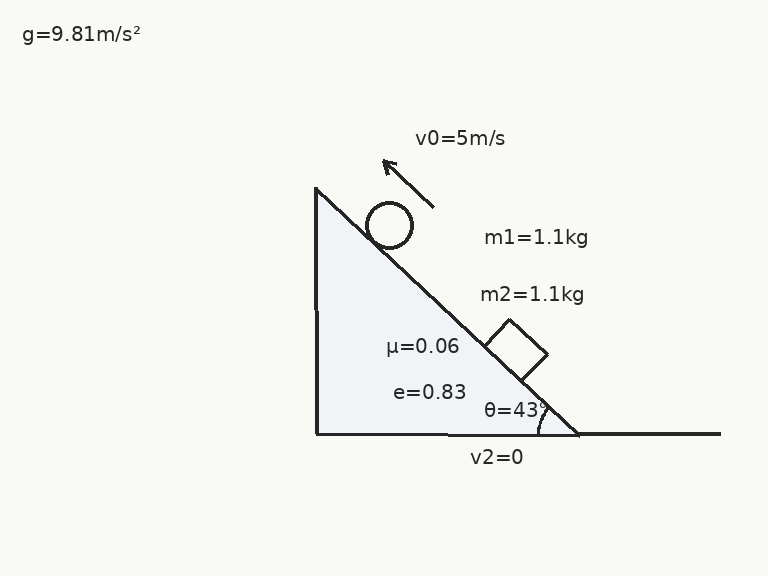ball: (363, 199, 415, 251)
block: (481, 316, 548, 383)
ramp: (313, 186, 580, 436)
